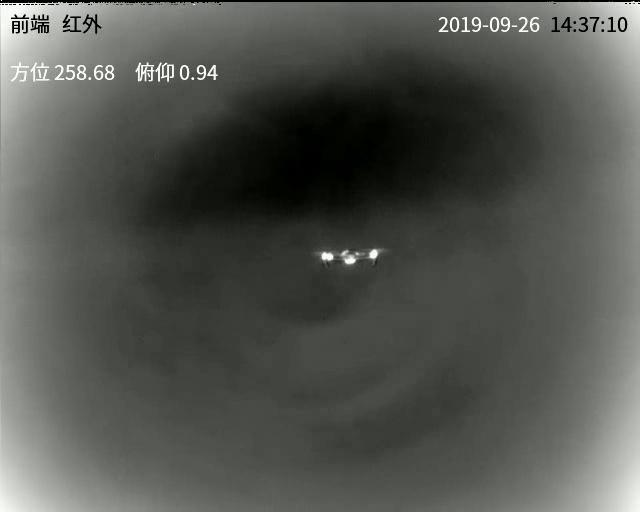DRONE: (317, 245, 380, 270)
